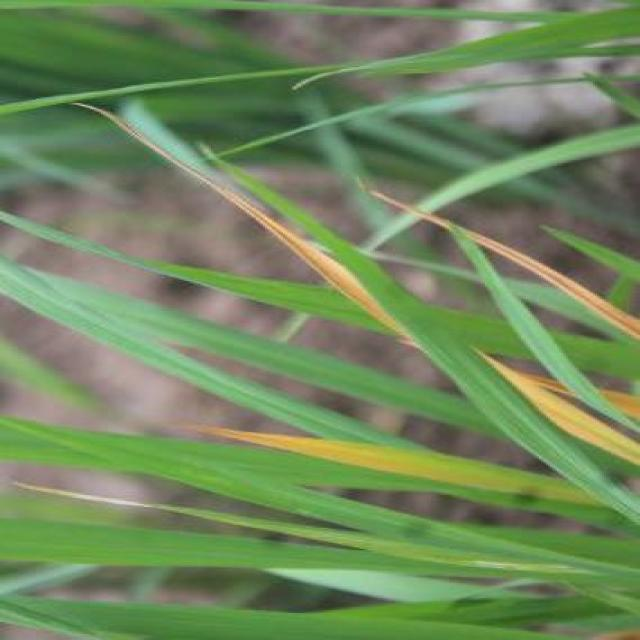Tungro: (113, 125, 408, 322), (418, 183, 640, 350), (216, 413, 431, 499), (487, 356, 640, 462)
